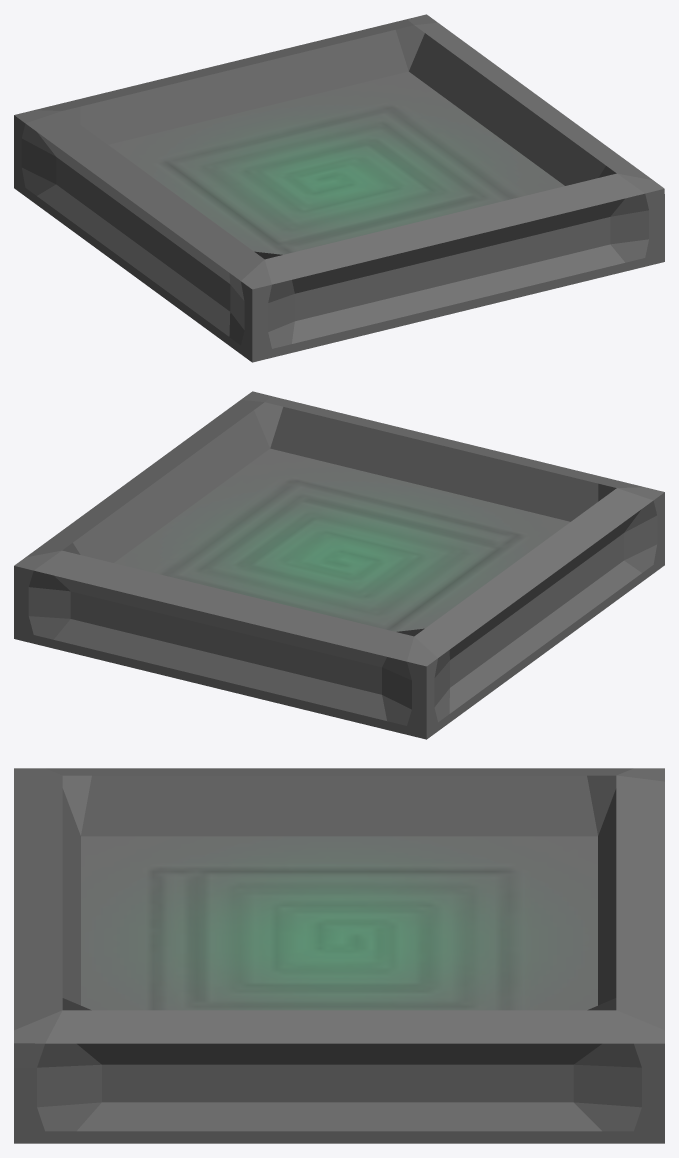
The model's file is PuzzelBoxPlateGray.obj.
The picture shows the model from 3 angles, top to bottom: view 1: azimuth 30°, elevation 25°; view 2: azimuth 150°, elevation 25°; view 3: azimuth 270°, elevation 25°; orthographic projection. The views are drawn at different scales.
Parts seen in each view (by area): view 1: pCube2; view 2: pCube2; view 3: pCube2.
Part boxes in pixels (box(x1,y1,x2,y2)): pCube2: box(14, 14, 664, 362); pCube2: box(14, 391, 664, 739); pCube2: box(14, 768, 664, 1143).
Bounding box in the file's own units: 4.38 × 0.8386 × 4.38.
